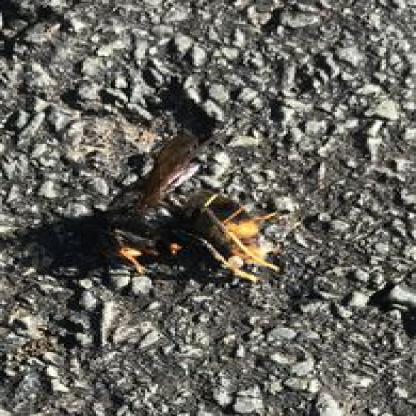Asian Hornet: (76, 152, 282, 277)
